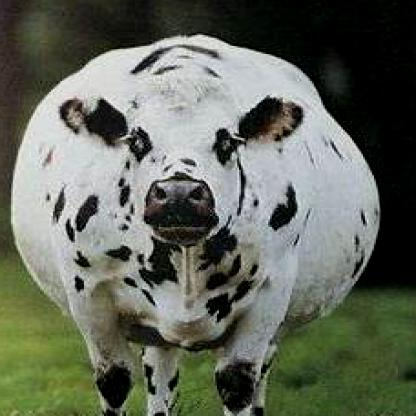cow: (9, 38, 383, 415)
